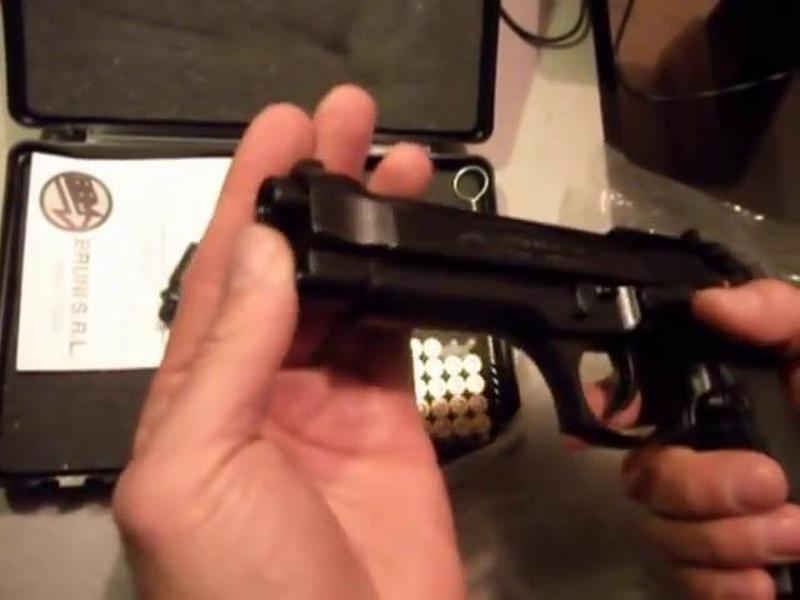Pistola: (234, 154, 800, 600)
